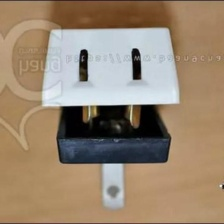three_eye_plug: (34, 21, 183, 135)
